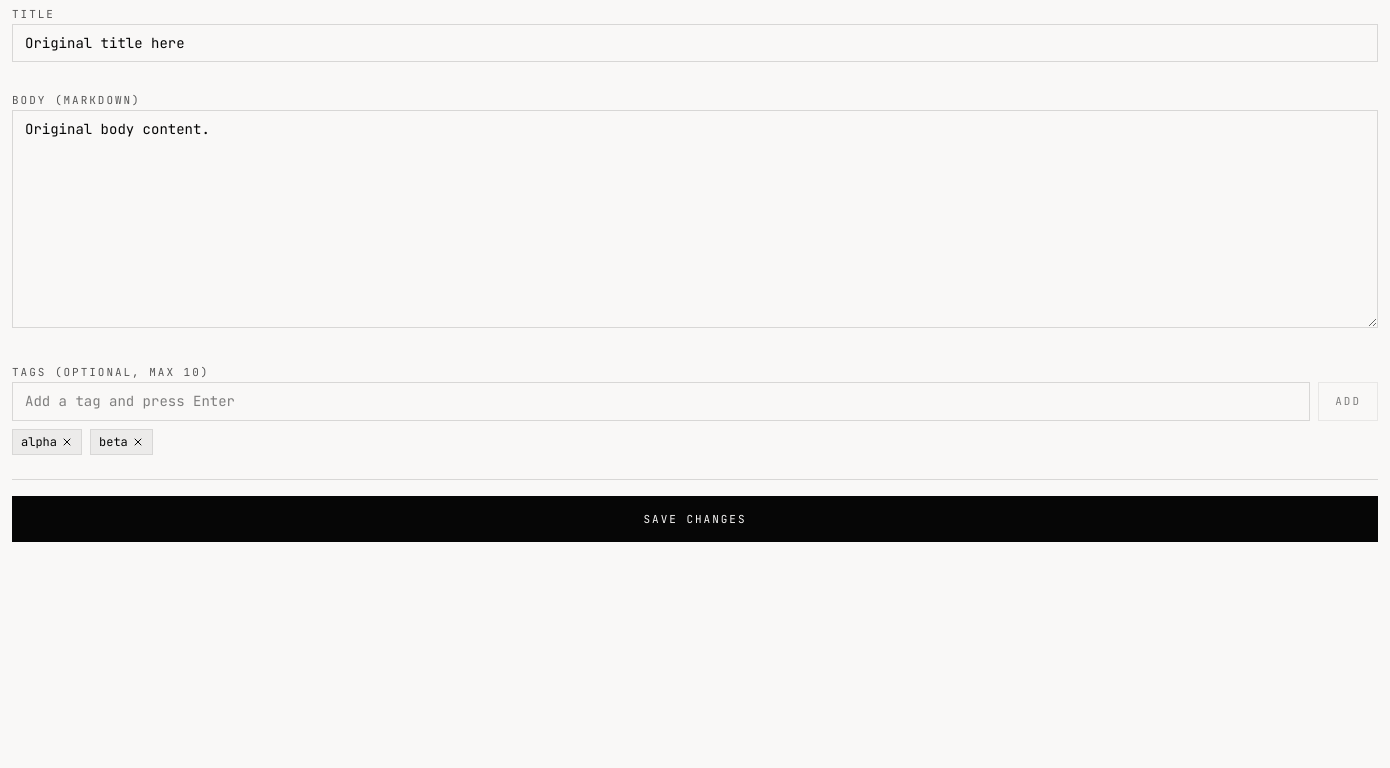
Test: PostEditor › displays the API error message on a failed save
Expected: the field labelled "TITLE" holds "Original title here", [12, 24, 1378, 62]
Click the button "SAVE CHANGES".
click(695, 519)  # box [12, 496, 1378, 542]
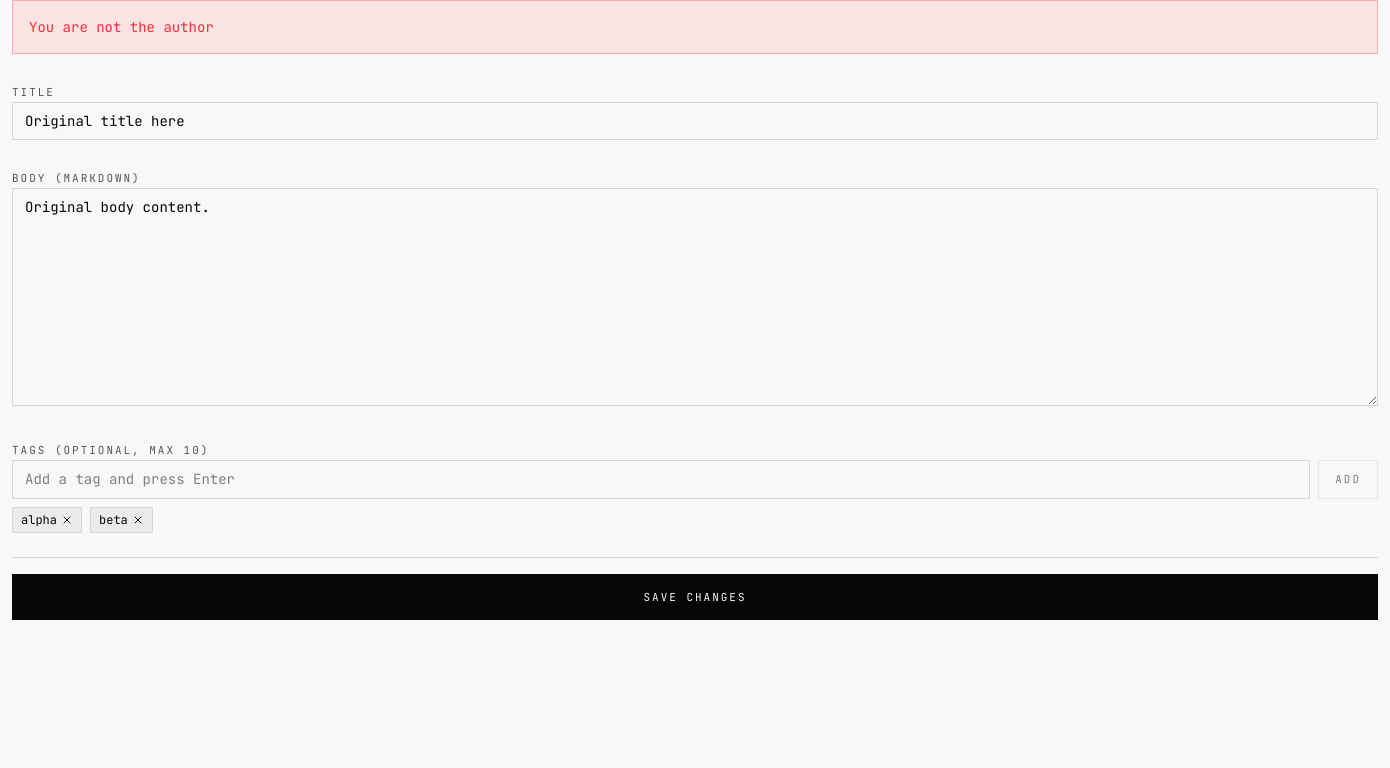
Now the text "You are not the author" is shown, box [12, 0, 1378, 54]
